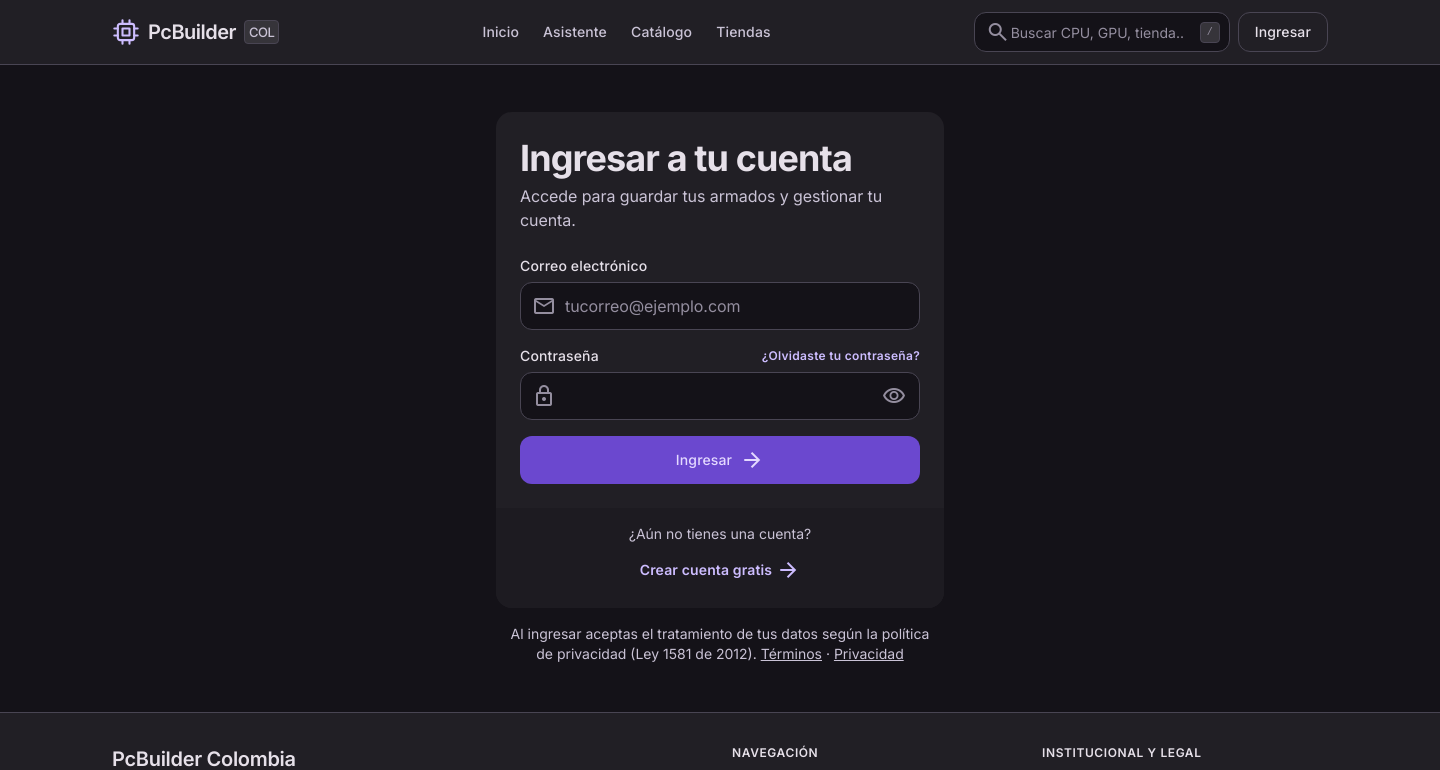
it: Ingresar: resultado › un comprador entra y va al inicio
Expected: the password field labelled "Contraseña" is shown, [520, 372, 920, 420]
In the field labelled "Correo electrónico": (720, 306) [520, 282, 920, 330], type "comprador@demo.pcbuilder.co"
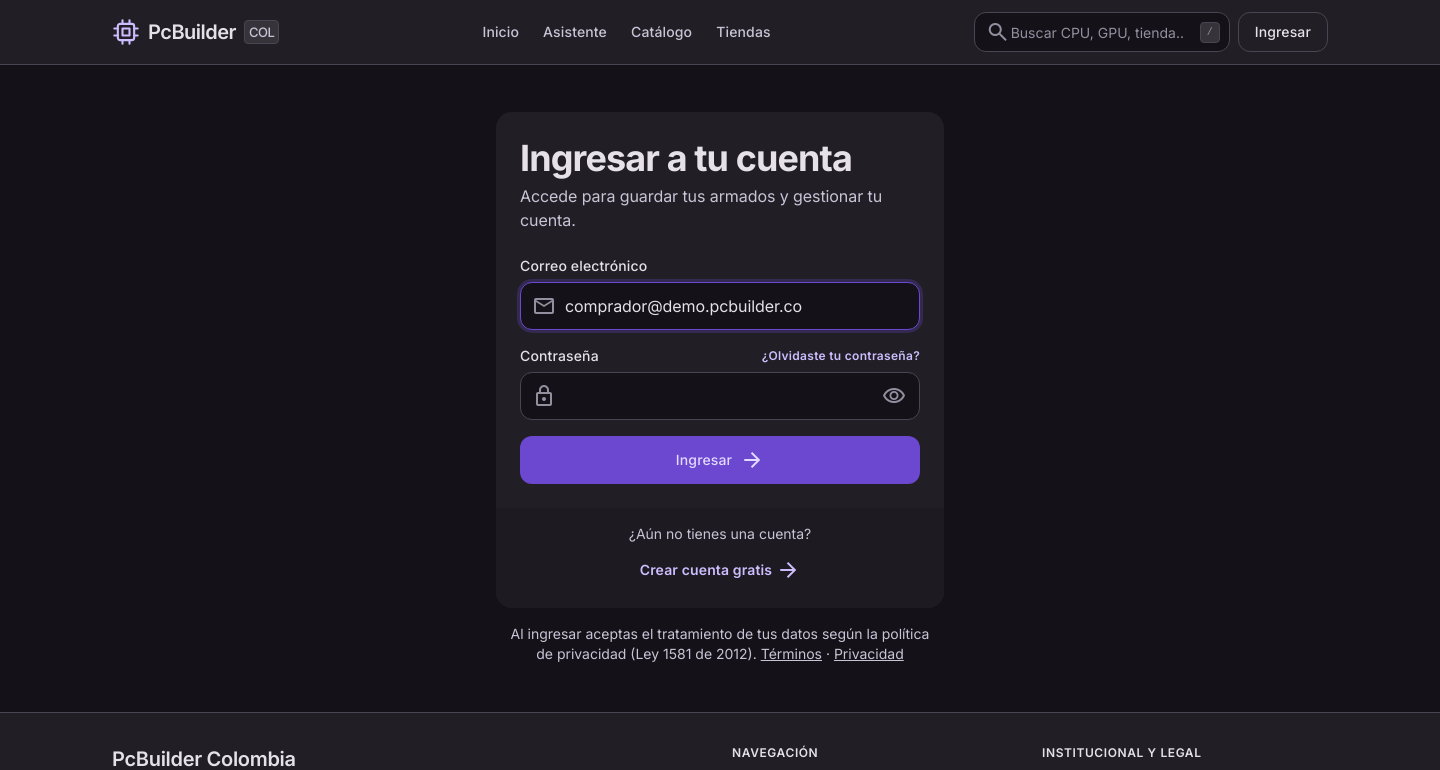
In the password field labelled "Contraseña": (720, 396) [520, 372, 920, 420], type "Demo12345"
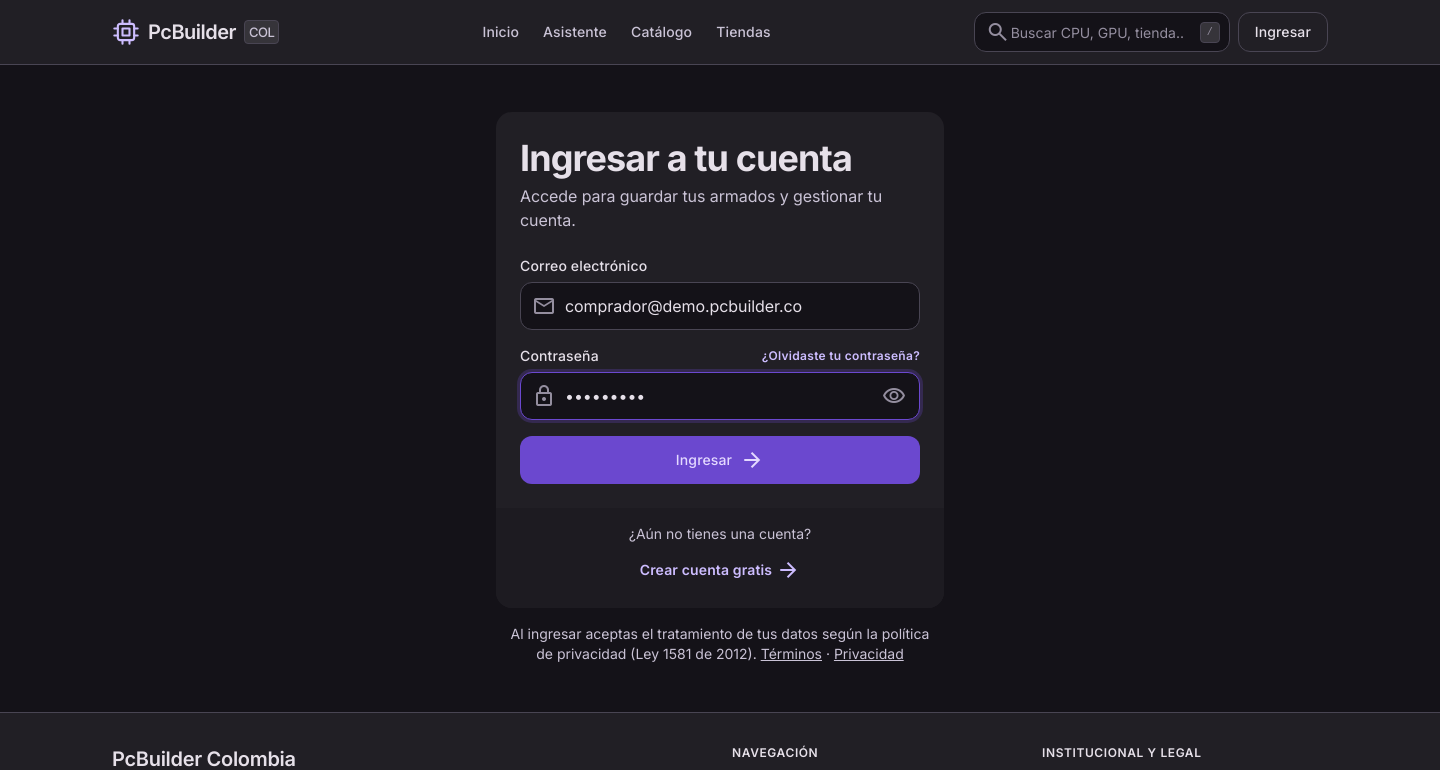
Click the button "Ingresar": (720, 460) [520, 436, 920, 484]
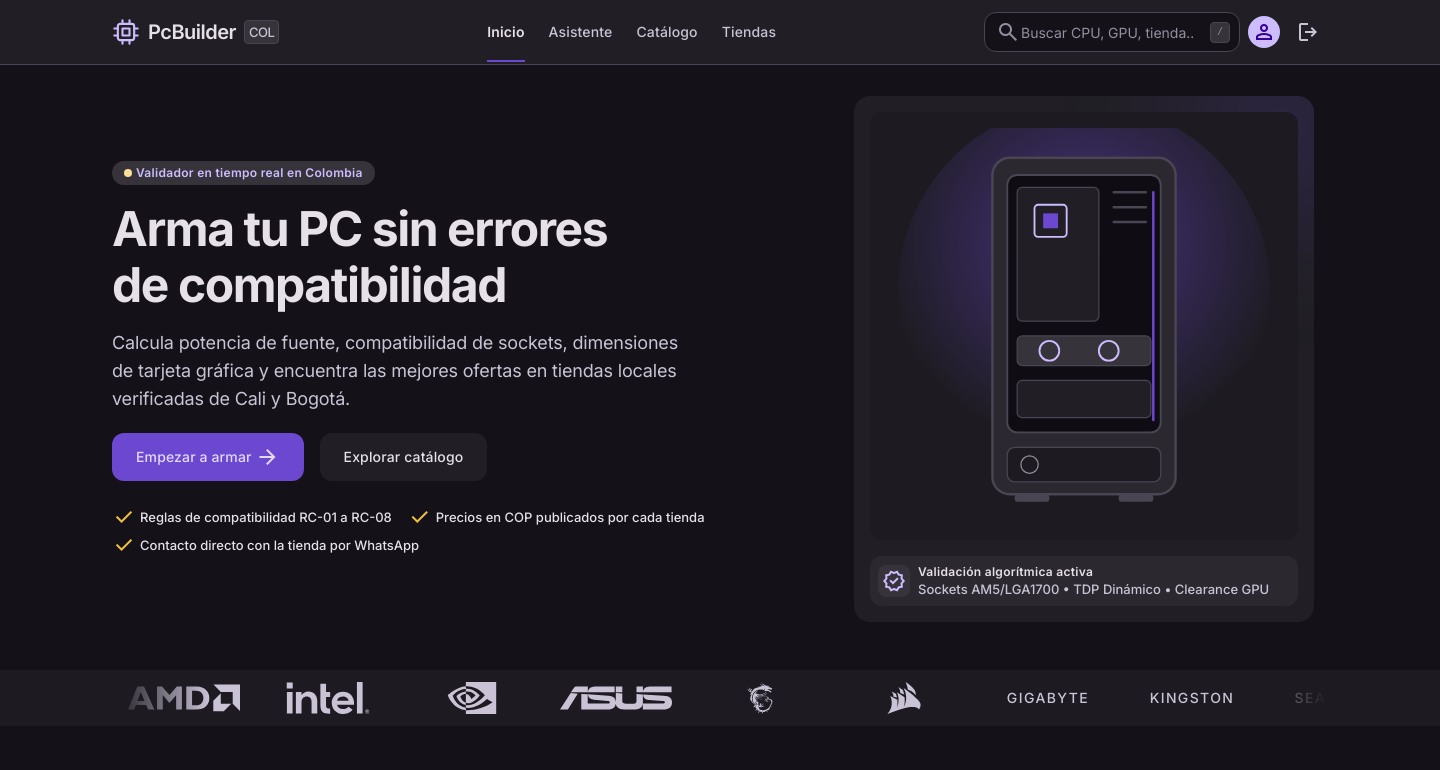
Expected: the link named "Mi cuenta" is shown, [1248, 16, 1280, 48]
Expected: the link "Ingresar" is gone
